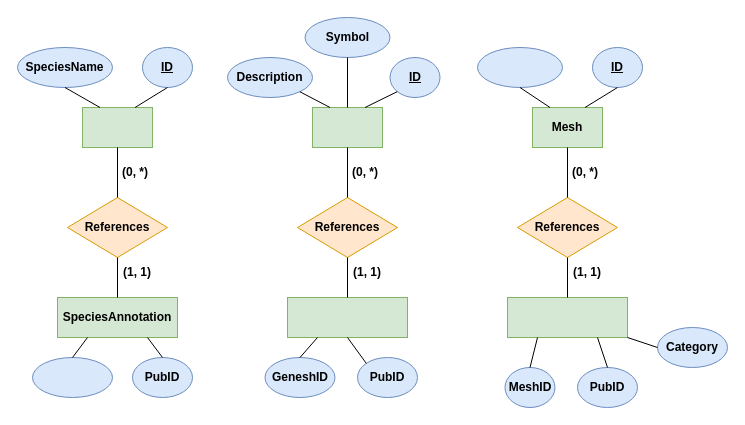
This 745x425 diagram has some shape labels left out. Each missing label, with the box of its shape:
Genes: (312, 106, 382, 148)
GenesAnnotation: (286, 296, 408, 338)
MeshAnnotation: (506, 296, 628, 338)
MeshName: (476, 46, 562, 88)
Species: (82, 106, 152, 148)
SpeciesID: (32, 356, 112, 398)
